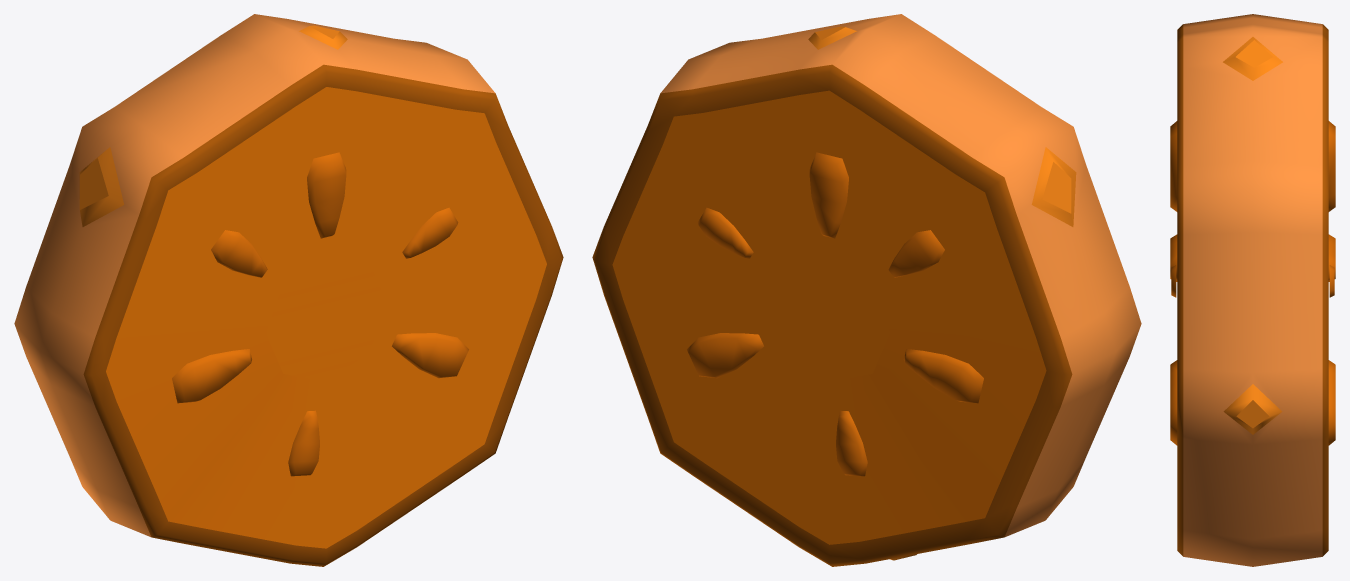
Rendered from Cucumber_slice.fbx.
3 views of the same model, side by side, from view 1: azimuth 30°, elevation 25°; view 2: azimuth 150°, elevation 25°; view 3: azimuth 270°, elevation 25° (orthographic).
Parts seen in each view (by area): view 1: Cucumber_slice; view 2: Cucumber_slice; view 3: Cucumber_slice.
Boxes of the visible parts, x1,y1,x2,y2 form: Cucumber_slice: (14, 14, 563, 566); Cucumber_slice: (592, 14, 1141, 566); Cucumber_slice: (1170, 14, 1335, 566).
Size of the model in its own units: 39.28 by 11.08 by 38.86.
